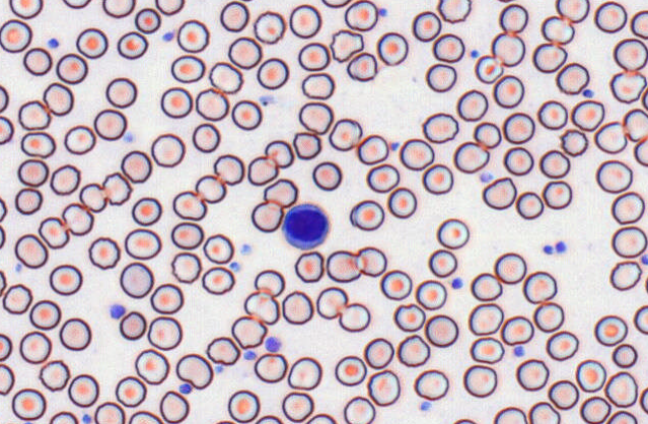LYM: (283, 202, 331, 250)
PLT: (264, 335, 281, 352), (108, 303, 126, 319), (554, 240, 568, 254), (514, 344, 526, 359), (47, 37, 60, 50), (242, 350, 256, 362), (451, 277, 463, 291), (480, 170, 494, 182), (419, 400, 432, 412), (583, 88, 596, 100), (178, 383, 192, 394), (161, 31, 173, 43), (543, 244, 555, 256), (81, 413, 94, 424), (378, 7, 389, 19), (123, 131, 133, 144), (391, 141, 402, 152), (640, 252, 648, 267)
RBC: (595, 159, 633, 193), (134, 348, 169, 384), (119, 261, 153, 298), (367, 369, 400, 406), (147, 316, 182, 350), (14, 233, 48, 268), (491, 31, 525, 66), (150, 133, 185, 167), (287, 356, 322, 390), (522, 270, 557, 304), (604, 371, 637, 407), (611, 225, 647, 258), (195, 87, 229, 121), (298, 101, 333, 134), (325, 249, 360, 282), (462, 364, 497, 397), (468, 302, 503, 335), (208, 61, 243, 94), (227, 36, 262, 69), (612, 38, 647, 71), (453, 141, 489, 173), (124, 228, 161, 259), (515, 358, 549, 391), (396, 334, 430, 367), (176, 19, 209, 53), (424, 314, 458, 347), (593, 121, 627, 154), (611, 191, 645, 224), (0, 18, 32, 53), (11, 388, 46, 420), (399, 138, 434, 170), (376, 31, 408, 66), (413, 369, 449, 400), (422, 112, 458, 143), (93, 108, 127, 140), (67, 373, 99, 407), (281, 290, 313, 324), (492, 74, 524, 108), (227, 389, 259, 423), (555, 62, 589, 94), (253, 10, 285, 44), (570, 99, 604, 131), (289, 4, 321, 38), (349, 199, 384, 230), (532, 42, 567, 73), (88, 236, 120, 269), (62, 202, 94, 235), (49, 263, 82, 295), (55, 52, 88, 84), (19, 330, 51, 363), (120, 150, 152, 183), (59, 317, 91, 350), (493, 252, 526, 284), (256, 57, 289, 89), (594, 314, 627, 346), (75, 27, 108, 59), (594, 1, 627, 33), (502, 112, 535, 144), (42, 82, 73, 116), (253, 352, 287, 383), (344, 0, 378, 31), (251, 200, 283, 232), (38, 359, 70, 391), (49, 163, 81, 195), (160, 86, 192, 118), (456, 89, 488, 121), (38, 216, 69, 249), (316, 286, 347, 319), (575, 359, 606, 392), (150, 283, 183, 314), (17, 99, 50, 130), (436, 218, 469, 249), (379, 269, 412, 300), (102, 171, 132, 205), (172, 190, 206, 220), (500, 315, 534, 345), (170, 54, 205, 83), (170, 251, 201, 283), (202, 233, 234, 264), (213, 153, 244, 185), (115, 375, 146, 407), (29, 299, 61, 330), (421, 163, 453, 194), (386, 186, 417, 218), (334, 355, 366, 386), (281, 391, 313, 422), (532, 301, 564, 332), (105, 77, 137, 108), (363, 337, 394, 369), (545, 330, 578, 360), (366, 163, 399, 193), (63, 124, 96, 154), (159, 390, 189, 423), (609, 260, 642, 290), (356, 134, 389, 164), (201, 266, 235, 295), (540, 15, 574, 44), (469, 336, 504, 364), (415, 279, 446, 310), (231, 99, 262, 130), (432, 32, 464, 62), (338, 302, 370, 332), (547, 379, 579, 409), (294, 250, 324, 282), (219, 0, 249, 32), (297, 42, 330, 71), (20, 131, 55, 158), (247, 155, 278, 185), (2, 283, 32, 314), (411, 10, 441, 41), (346, 51, 377, 81), (537, 99, 568, 129), (470, 272, 502, 301), (170, 221, 203, 249), (356, 246, 386, 276), (312, 161, 342, 191), (498, 3, 528, 33), (195, 174, 226, 203), (539, 149, 570, 178), (17, 158, 48, 187), (425, 63, 456, 92), (131, 196, 162, 225), (117, 30, 148, 59), (541, 180, 572, 209), (343, 395, 375, 423), (301, 72, 334, 99), (264, 139, 294, 168), (503, 146, 533, 175), (579, 396, 611, 423), (474, 54, 503, 83), (428, 248, 457, 277), (79, 182, 107, 212), (192, 122, 220, 152), (622, 108, 647, 141), (23, 47, 52, 75), (559, 128, 588, 156), (119, 310, 146, 340), (14, 187, 42, 215), (515, 191, 543, 219), (473, 121, 501, 149), (555, 0, 589, 23), (437, 0, 471, 23), (528, 401, 560, 423), (134, 7, 161, 33), (94, 401, 125, 423), (611, 343, 637, 368), (9, 0, 43, 19), (102, 0, 135, 18), (493, 406, 527, 423), (630, 9, 647, 39), (128, 410, 163, 423), (0, 363, 14, 395), (155, 0, 184, 15), (633, 135, 647, 166), (633, 304, 647, 334), (0, 115, 14, 144), (606, 410, 637, 423), (49, 411, 78, 423), (0, 333, 12, 361), (306, 413, 336, 423), (254, 414, 283, 423), (62, 0, 91, 9), (0, 84, 9, 112), (321, 0, 350, 8), (639, 387, 647, 414), (0, 269, 7, 296), (0, 196, 7, 222), (641, 85, 647, 111), (0, 224, 6, 249), (452, 418, 477, 423), (214, 419, 236, 424), (644, 274, 648, 293), (495, 0, 515, 3)
Schistocyte: (482, 175, 518, 212), (609, 71, 648, 104), (331, 29, 366, 64), (177, 355, 213, 389), (232, 316, 268, 349), (244, 292, 280, 325), (329, 118, 362, 151), (263, 179, 299, 208), (392, 303, 426, 332), (208, 337, 240, 366), (254, 270, 285, 297)
